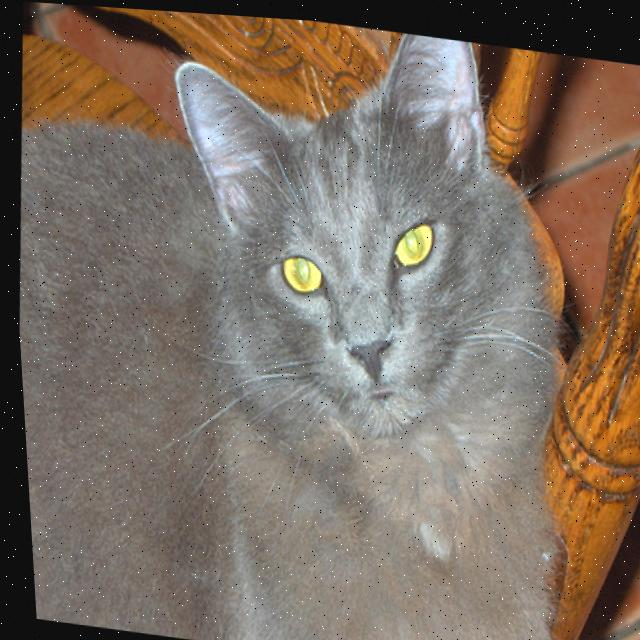Russian Blue: (0, 0, 596, 640)
